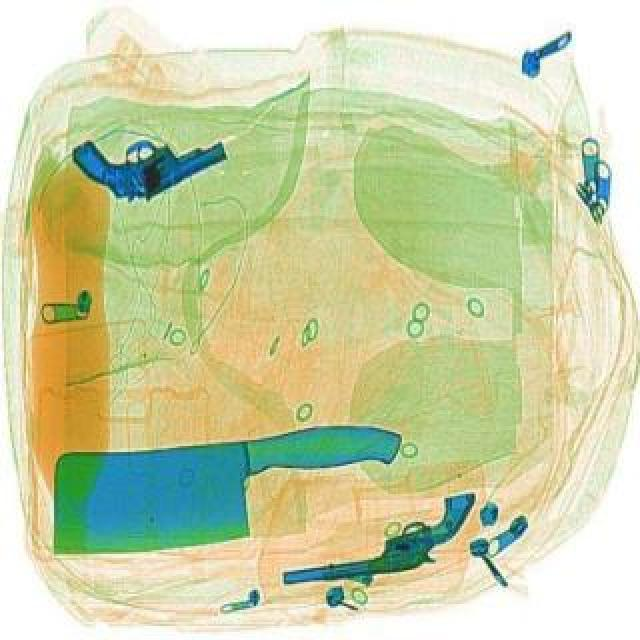gun: (264, 482, 496, 612), (68, 116, 236, 210)
knife: (34, 406, 418, 568)
